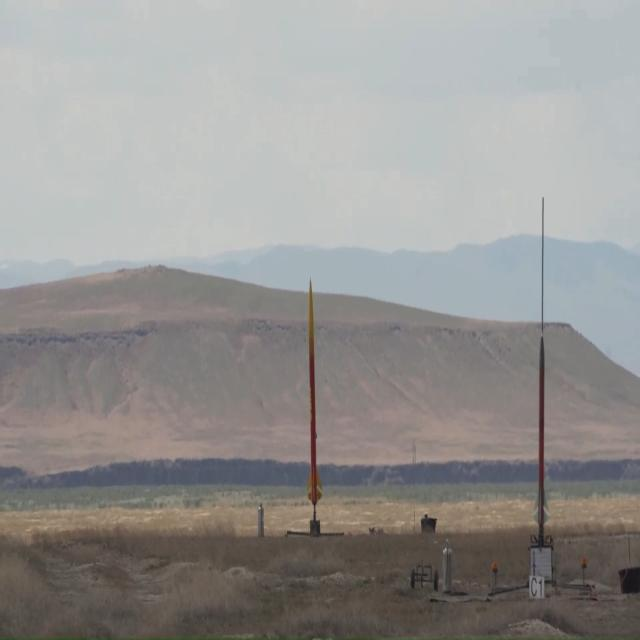Rocket: (307, 276, 323, 505), (532, 331, 550, 526)
